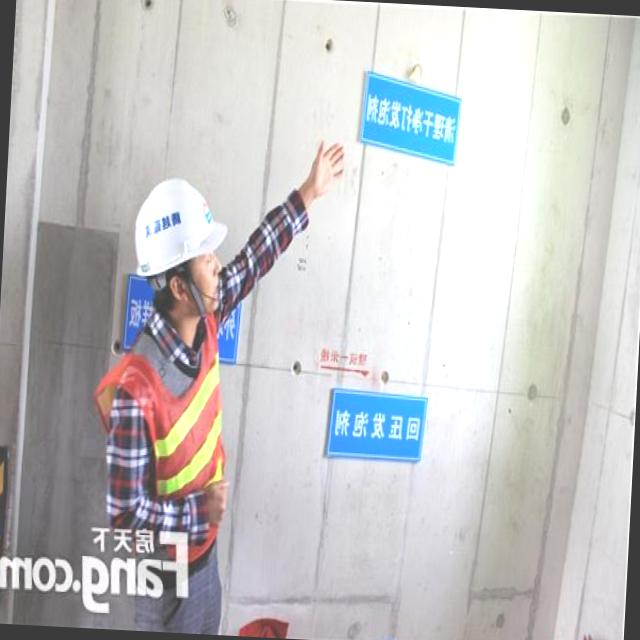helmet: (132, 176, 231, 282)
vest: (100, 308, 236, 582)
